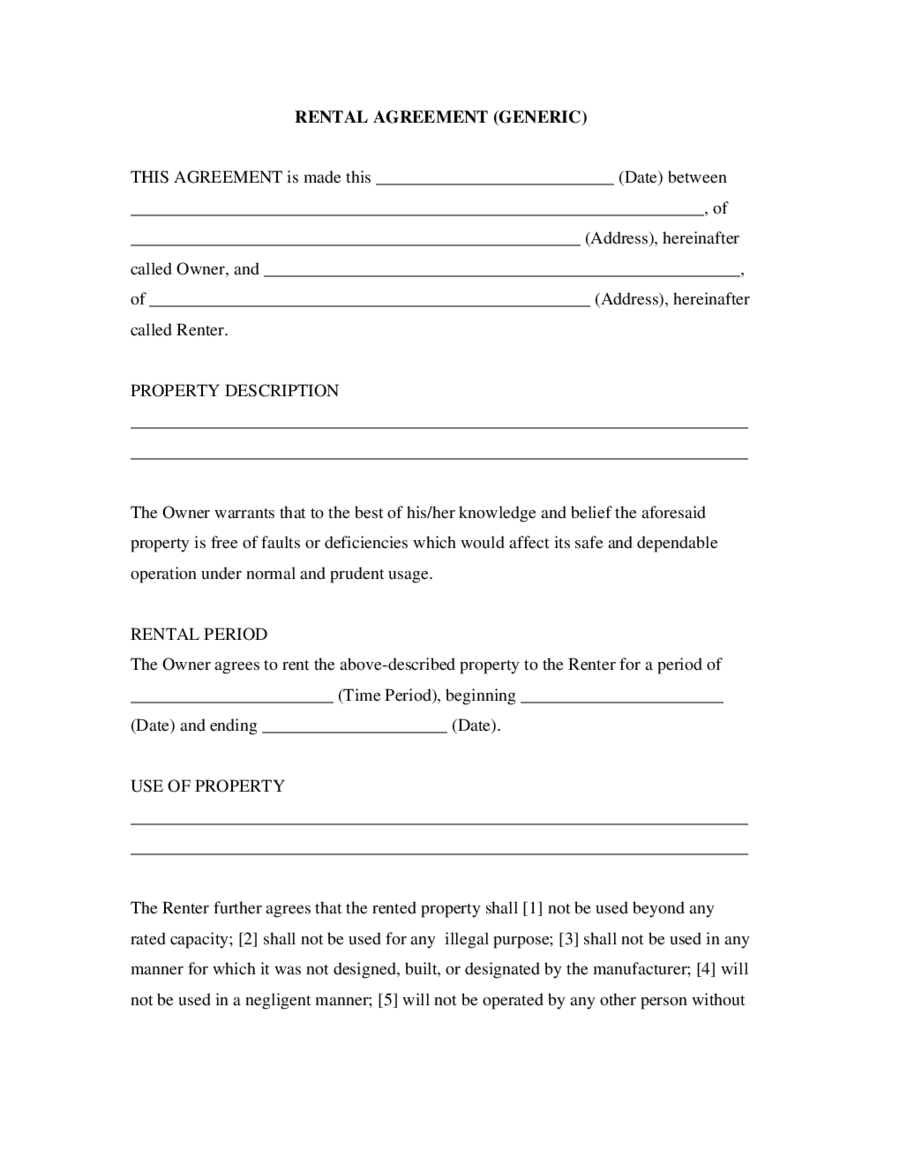textline: (124, 793, 755, 838), (124, 831, 757, 868), (125, 400, 754, 436), (124, 435, 756, 470), (125, 189, 708, 225), (151, 279, 589, 315), (122, 223, 583, 254), (259, 254, 744, 283), (368, 146, 620, 194), (126, 673, 338, 708), (516, 678, 727, 712), (257, 709, 449, 742)
